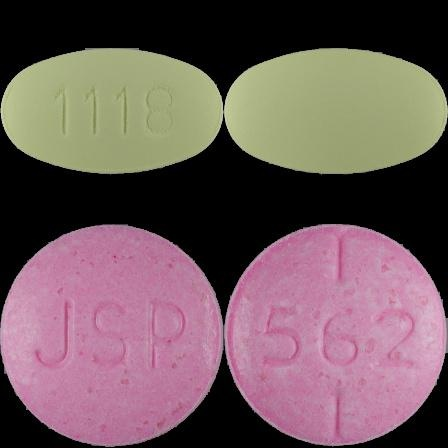16590-954: (0, 0, 224, 224)
